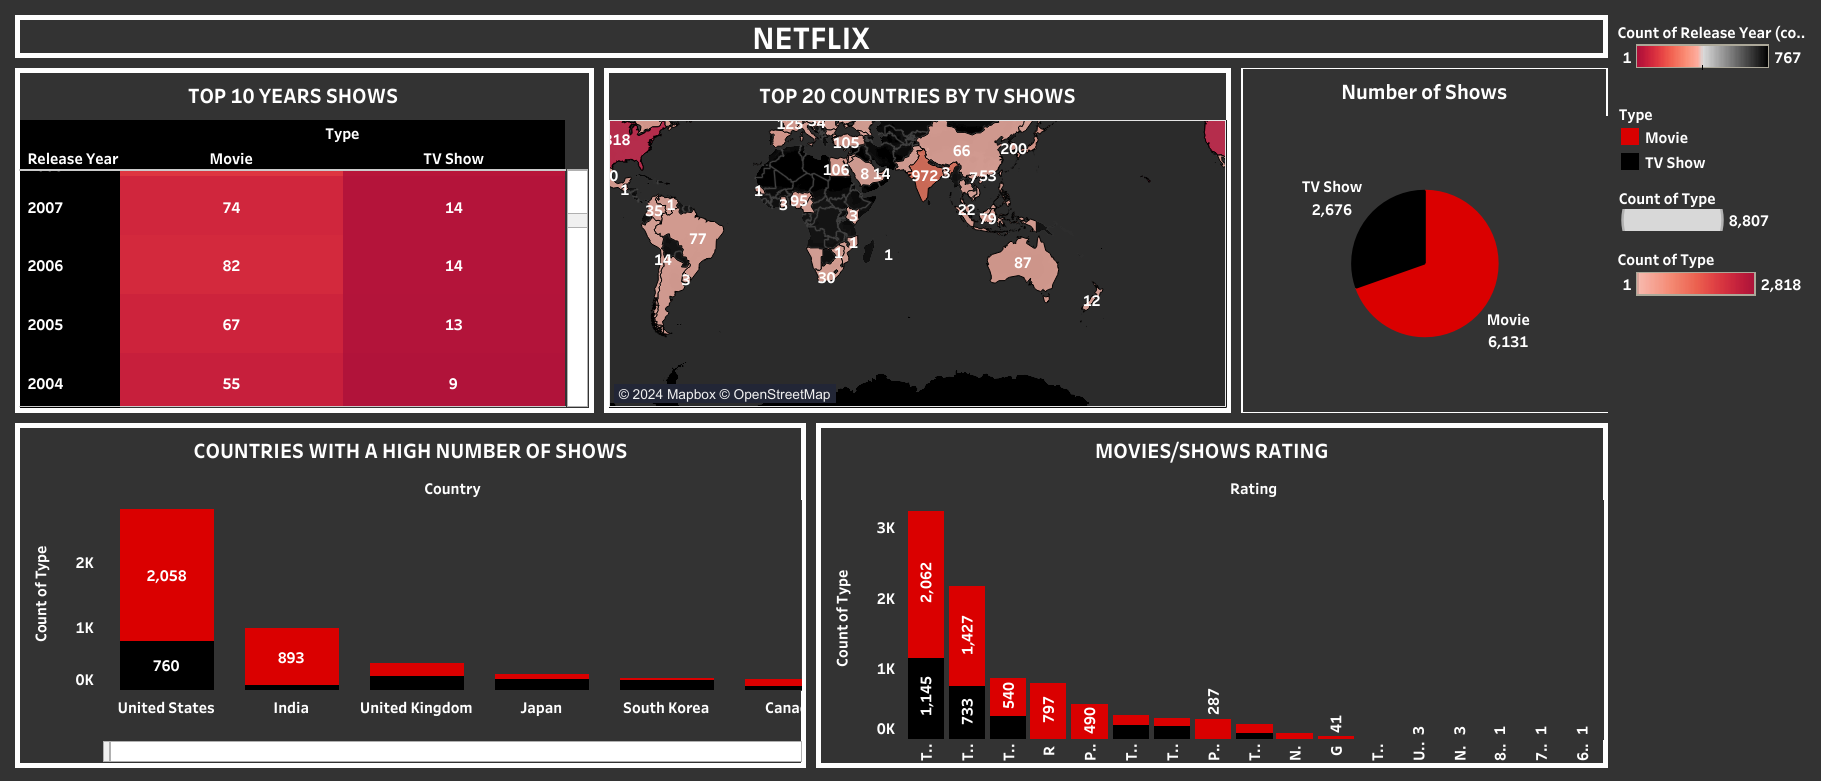

Layout of this report page (visuals, bound fields, positions):
{"tool":"tableau","page":{"name":"Dashboard 1","canvas":[1000,1000],"units":"permille","ordinal":0},"visuals":[{"type":"title","box":[4.8,9.4,893.8,57.6]},{"type":"legend","title":"TOP 10 YEARS SHOWS","param":"[federated.1ofw5na0vmx37u1e47nc10922e8k].[cnt:Release Year (copy)_14659217138605","box":[898.6,9.4,96.6,85.8]},{"type":"worksheet","title":"TOP 10 YEARS SHOWS","mark":"Square","rows":["release_year"],"cols":["type"],"box":[4.8,67,328.3,461.8]},{"type":"worksheet","title":"TOP 20 COUNTRIES BY TV SHOWS","mark":"Automatic","box":[333.1,67,355.5,461.8]},{"type":"worksheet","title":"NUMBER OF SHOWS","mark":"Pie","box":[688.6,67,210,461.8]},{"type":"legend","title":"NUMBER OF SHOWS","param":"[federated.1ofw5na0vmx37u1e47nc10922e8k].[none:type:nk]","box":[898.6,95.2,96.6,84.6]},{"type":"legend","title":"NUMBER OF SHOWS","param":"[federated.1ofw5na0vmx37u1e47nc10922e8k].[cnt:type:qk]","box":[898.6,179.8,96.6,59.9]},{"type":"legend","title":"TOP 20 COUNTRIES BY TV SHOWS","param":"[federated.1ofw5na0vmx37u1e47nc10922e8k].[cnt:type:qk]","box":[898.6,239.7,96.6,85.8]},{"type":"worksheet","title":"COUNTRIES WITH A HIGH NUMBER OF SHOWS","mark":"Automatic","rows":["type"],"cols":["country"],"box":[4.8,528.8,446.9,461.8]},{"type":"worksheet","title":"MOVIES/SHOWS RATING","mark":"Bar","rows":["type"],"cols":["rating"],"box":[451.7,528.8,446.9,461.8]}]}

Visuals, with their boxes on the dashboard's canvas, which has no fixed pixel size, in thousandths of its width and height (x1, y1, x2, y2). These are canvas units, not pixel positions in the 1821x781 screenshot, which may show the page scaled, cropped or inside an application window:
title: (5, 9, 899, 67)
"TOP 10 YEARS SHOWS" legend: (899, 9, 995, 95)
"TOP 10 YEARS SHOWS" worksheet (Square marks): (5, 67, 333, 529)
"TOP 20 COUNTRIES BY TV SHOWS" worksheet: (333, 67, 689, 529)
"NUMBER OF SHOWS" worksheet (Pie marks): (689, 67, 899, 529)
"NUMBER OF SHOWS" legend: (899, 95, 995, 180)
"NUMBER OF SHOWS" legend: (899, 180, 995, 240)
"TOP 20 COUNTRIES BY TV SHOWS" legend: (899, 240, 995, 326)
"COUNTRIES WITH A HIGH NUMBER OF SHOWS" worksheet: (5, 529, 452, 991)
"MOVIES/SHOWS RATING" worksheet (Bar marks): (452, 529, 899, 991)
